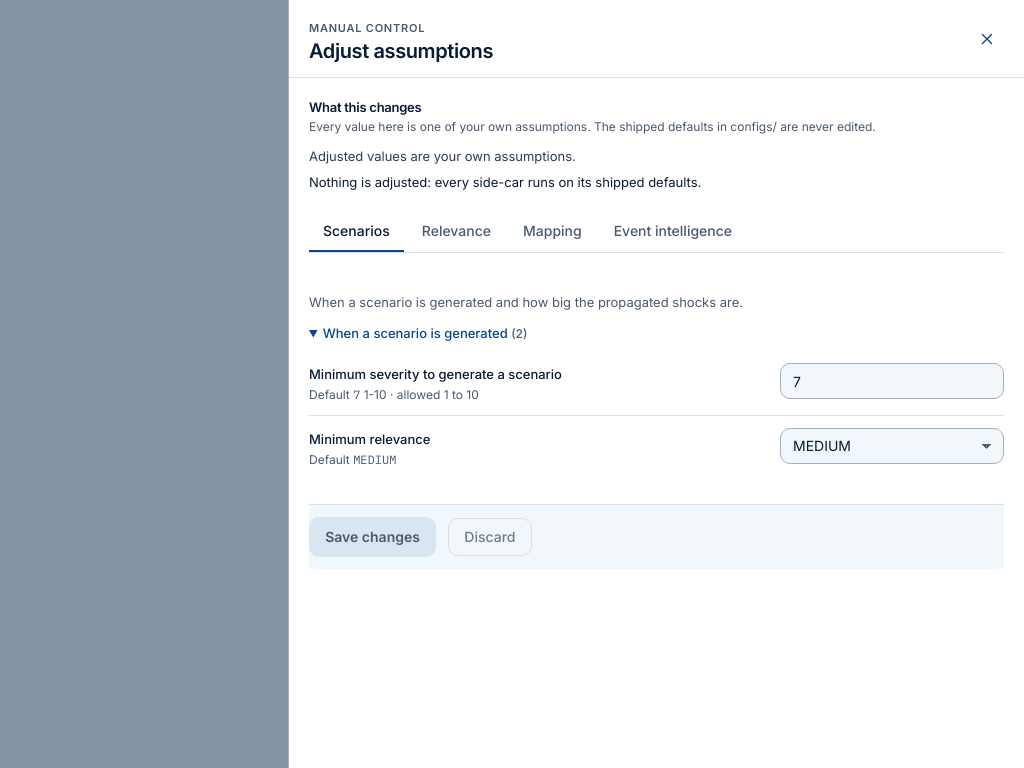
Test case: Adjust drawer › does not send an empty number
Clear the number field labelled "Minimum severity to generate a scenario" at [892, 381], box [780,363,1004,399]
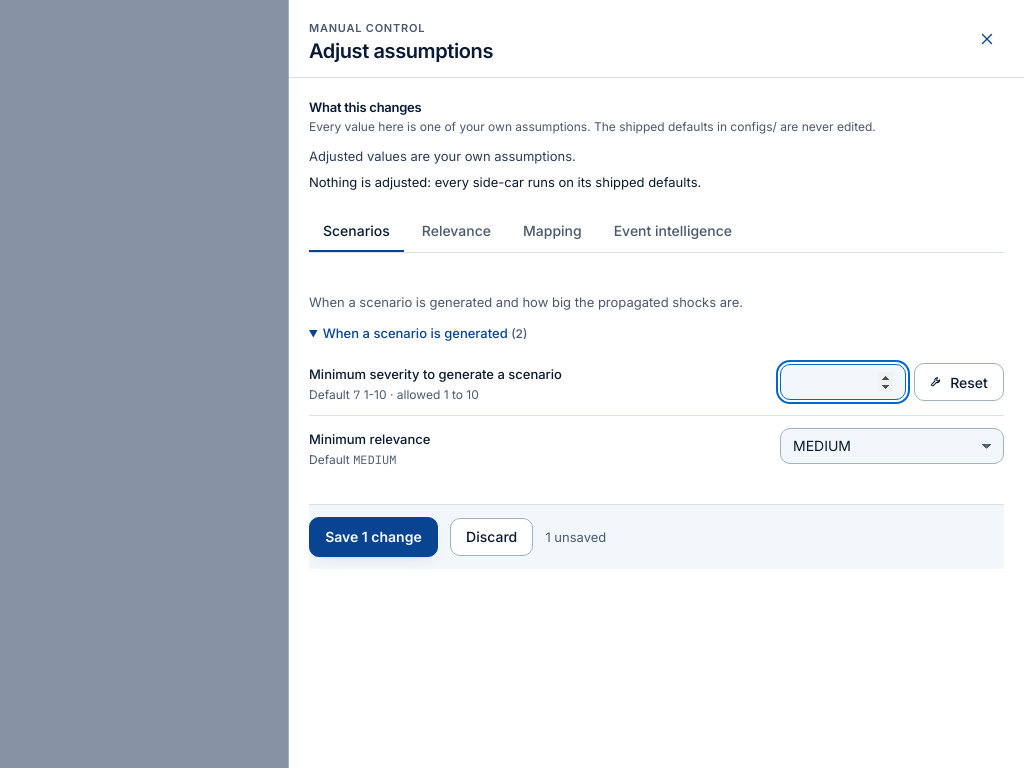
Click the button "Save 1 change" at [373, 537], box [309,517,438,557]
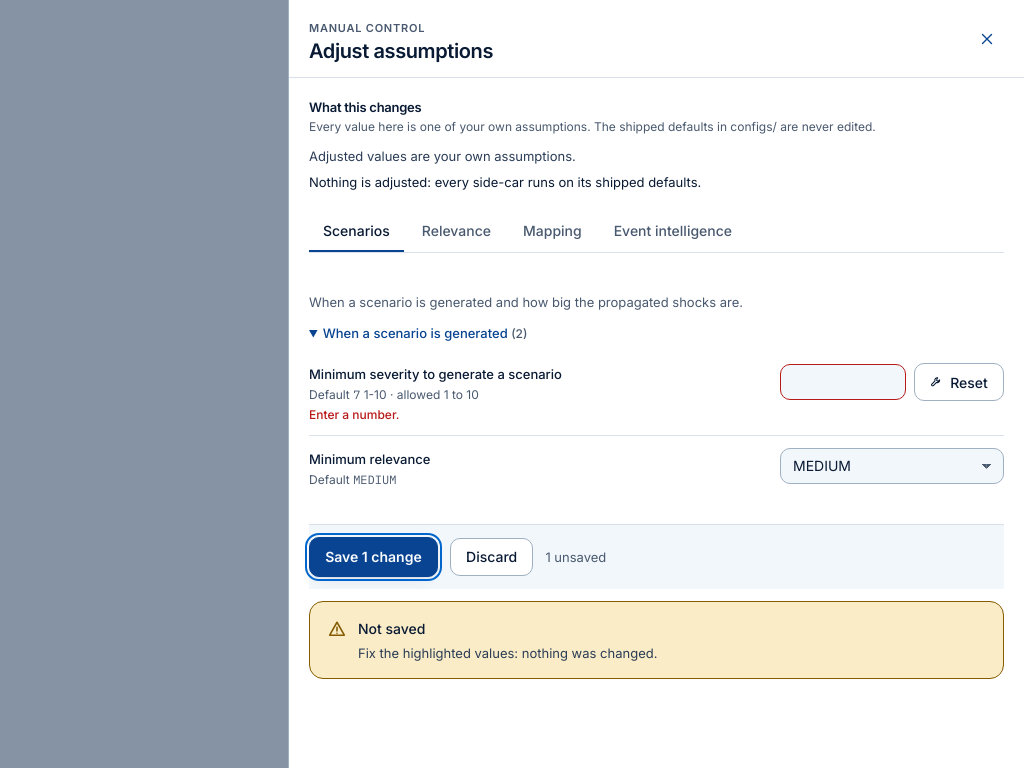
Now the text "Enter a number." is shown, box [309,407,399,422]
